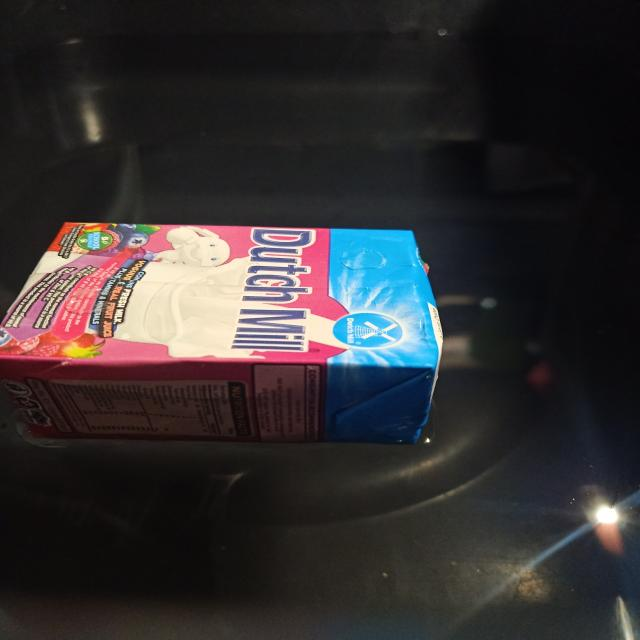Cardboard Box: (0, 222, 442, 444)
